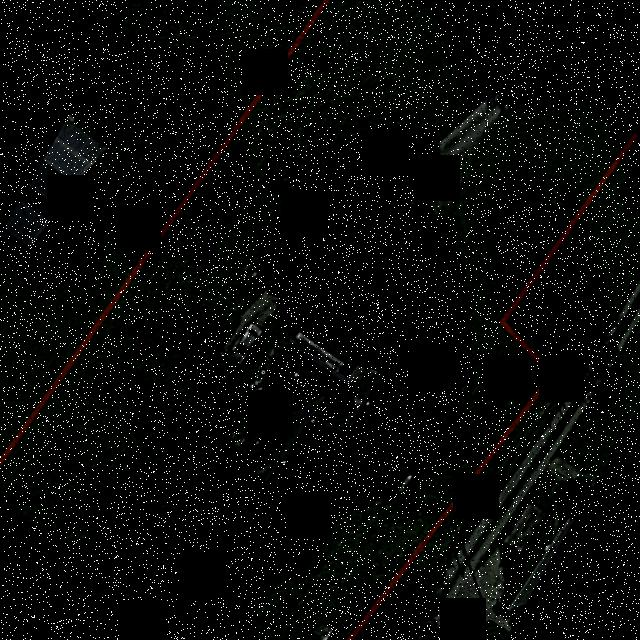Driveway: (225, 215, 377, 350), (437, 65, 534, 167)
House: (189, 323, 404, 541)
